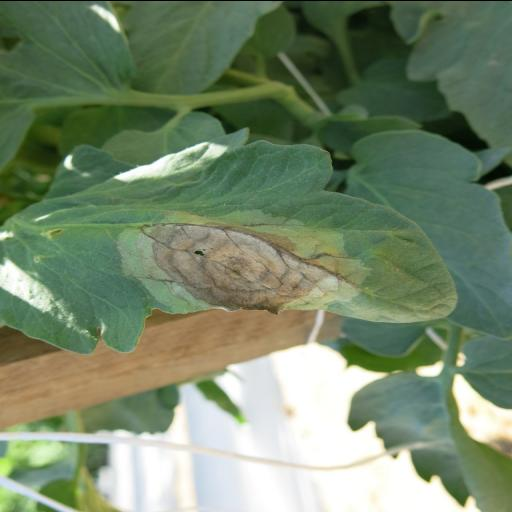Late Blight: (1, 102, 465, 354)
